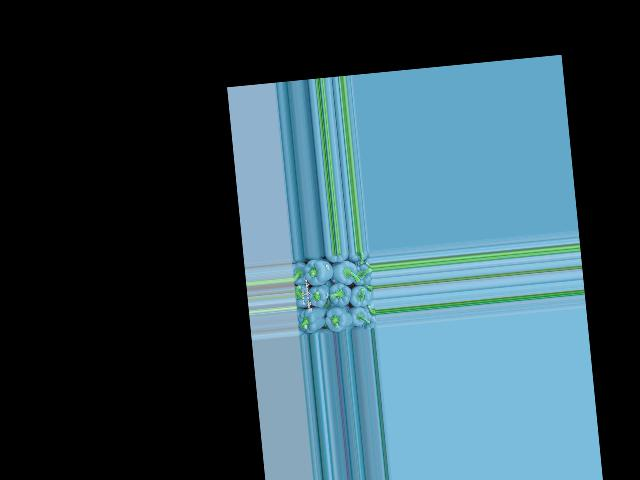bell_pepper: (291, 258, 309, 286)
